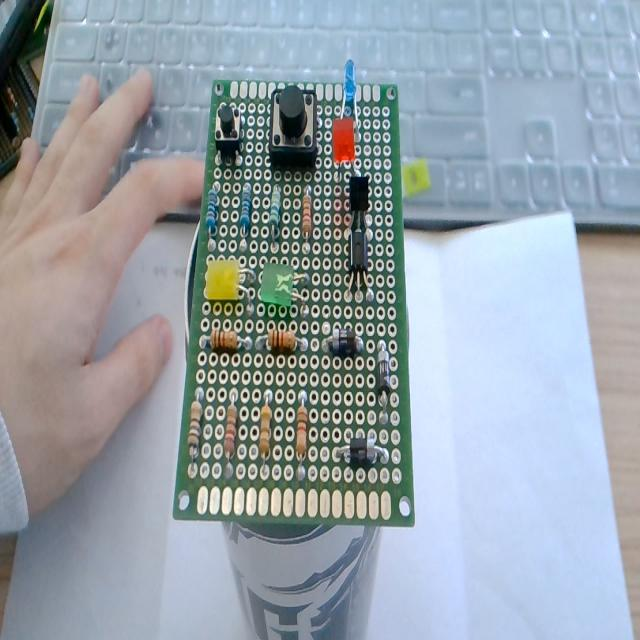diode: (367, 331, 393, 417), (338, 433, 392, 468), (326, 333, 366, 359)
led: (202, 256, 260, 319), (258, 260, 314, 318), (326, 114, 366, 173), (338, 56, 368, 124)
resistor: (223, 388, 243, 470), (256, 393, 276, 474), (199, 325, 245, 359), (257, 326, 307, 355), (186, 386, 202, 474), (293, 392, 310, 471), (238, 177, 252, 235), (271, 185, 285, 242), (206, 182, 220, 238), (299, 186, 311, 244)
switch: (266, 82, 320, 180), (211, 97, 251, 165)
transistor: (339, 169, 376, 240), (342, 232, 376, 307)
